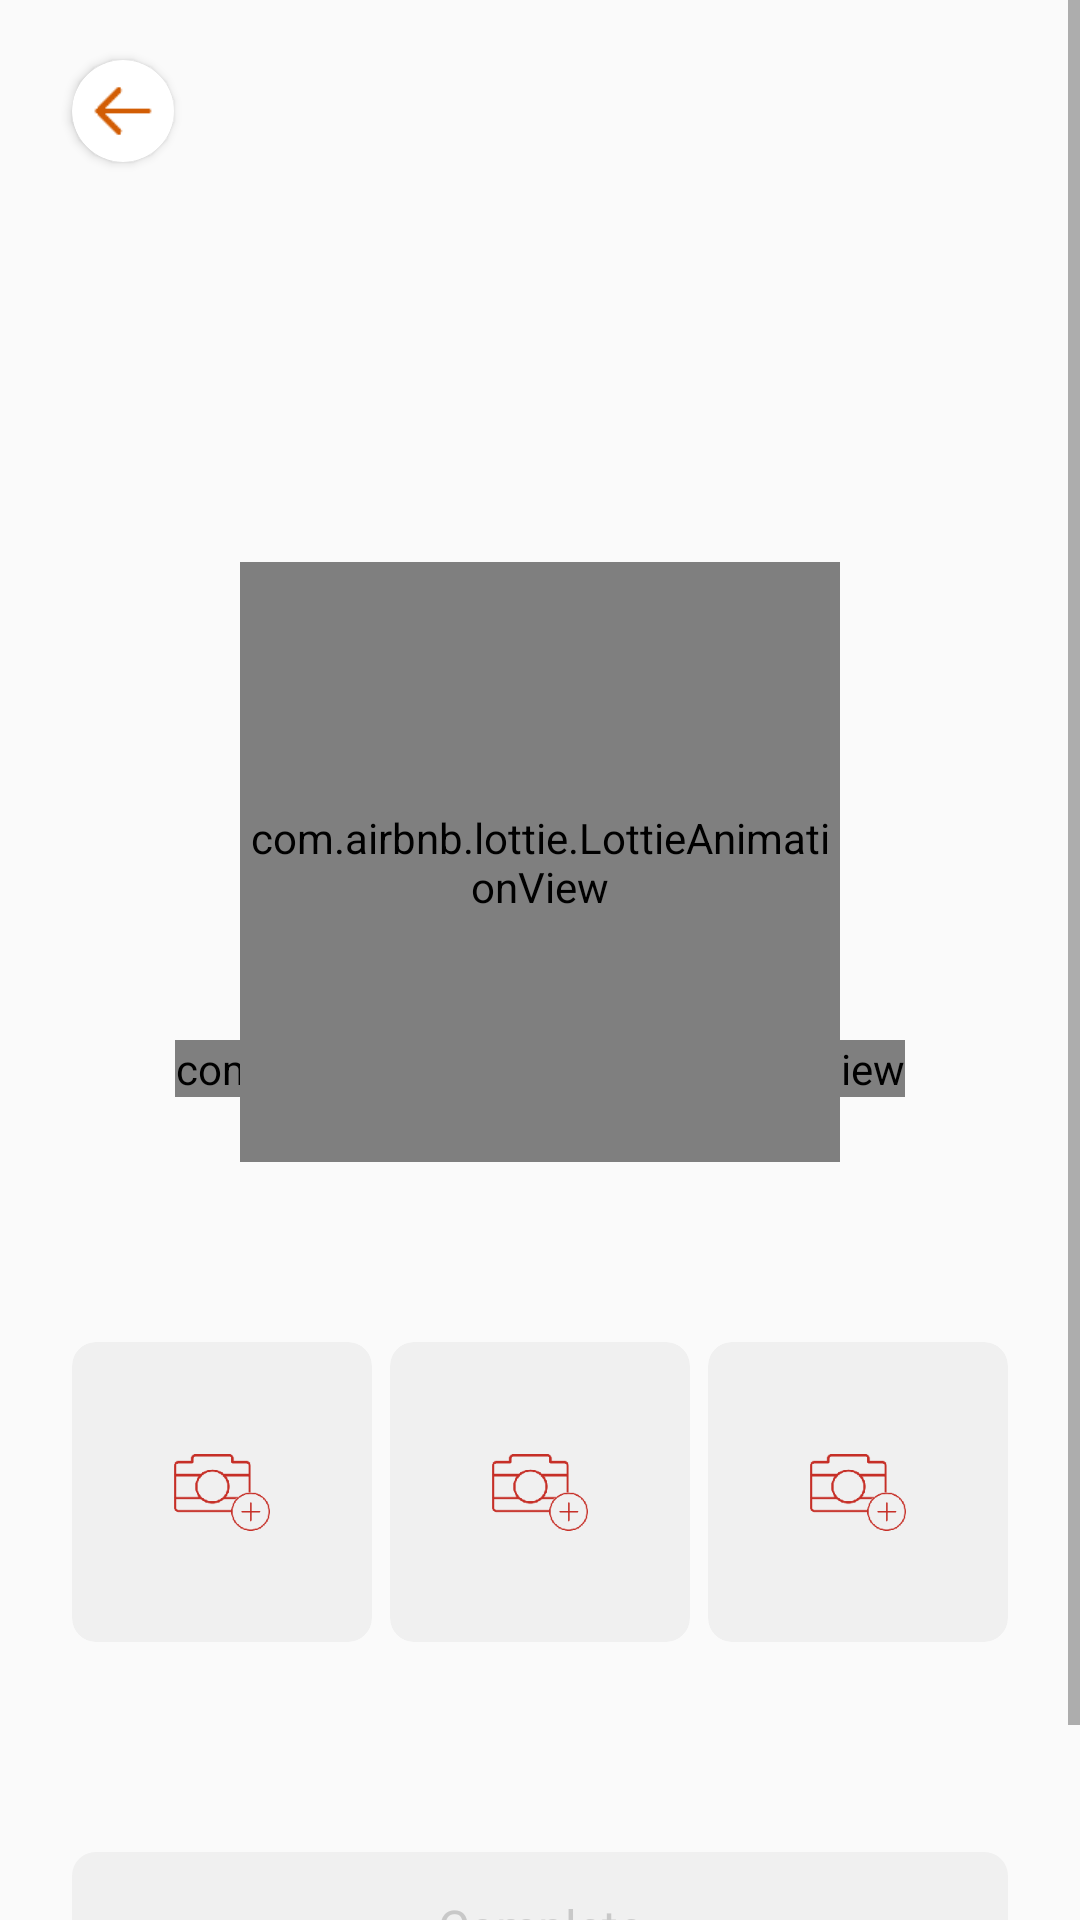

Screen size 1080*1920. Icon name, then its center in pixels as (x=x, y=y):
back arrow: (x=123, y=111)
photo add: (x=222, y=1492), (x=540, y=1492), (x=858, y=1492)
